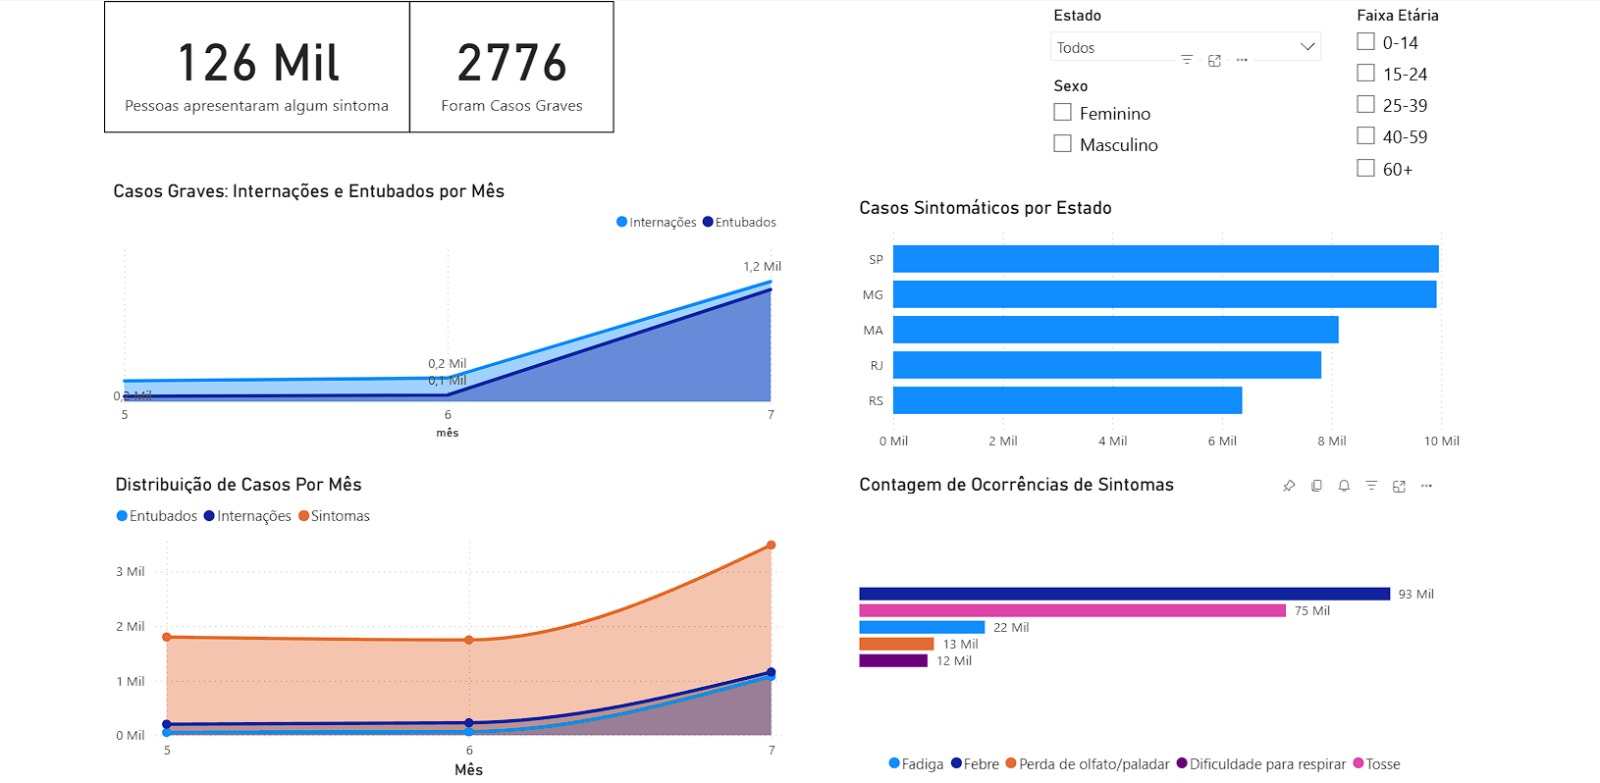

The page's visual inventory and layout, read from the dashboard file:
{"tool":"powerbi","page":{"name":"sintomas clínicos","canvas":[1280,720],"ordinal":0},"visuals":[{"type":"card","fields":{"Values":["Tabela.QtdPessoas_AlgumSintoma"]},"box":[0,0,280.5,120.8],"z":0},{"type":"clusteredBarChart","title":"Contagem de Ocorrências de Sintomas","fields":{"Y":["Tabela.Qtd_Fadiga","Tabela.Qtd_Febre","Tabela.Qtd_OlfPal","Tabela.Qtd_DifResp","Tabela.Qtd_Tosse"]},"box":[688.3,433.8,537.7,285.7],"z":1000},{"type":"clusteredBarChart","title":"Casos Sintomáticos por Estado","fields":{"Y":["Tabela.QtdPessoas_AlgumSintoma"],"Category":["pnad_sot (2).uf_sigla"]},"box":[688.3,179.2,561,242.9],"z":2000},{"type":"areaChart","title":"Casos Graves: Internações e Entubados por Mês","fields":{"Category":["pnad_sot (2).mes"],"Y":["Tabela.Internacoes","Tabela.Entubados"]},"box":[3.9,163.6,623.4,242.9],"z":3000},{"type":"lineChart","title":"Distribuição de Casos Por Mês","fields":{"Category":["pnad_sot (2).mes"],"Y":["Tabela.Entubados","Tabela.Internacoes","Tabela.Qtd_atendimentos"]},"box":[5.2,433.8,622.1,285.7],"z":4000},{"type":"card","fields":{"Values":["Tabela.Casos Graves"]},"box":[280.5,0,188.3,120.8],"z":5000},{"type":"slicer","fields":{"Values":["pnad_sot (2).uf_sigla"]},"box":[858.4,0,268.8,64.9],"z":6000},{"type":"slicer","fields":{"Values":["pnad_sot (2).sexo"]},"box":[858.4,64.9,197.4,87],"z":7000},{"type":"slicer","fields":{"Values":["pnad_sot (2).faixa_idade"]},"box":[1137.7,0,142.9,179.2],"z":8000}]}

Visuals, with their boxes on the page's 1280x720 design canvas (x1, y1, x2, y2). These are canvas units, not pixel positions in the 1600x783 screenshot, which may show the page scaled, cropped or inside an application window:
card - Tabela.QtdPessoas_AlgumSintoma: x1=0 y1=0 x2=280 y2=121
"Contagem de Ocorrências de Sintomas" clusteredBarChart: x1=688 y1=434 x2=1226 y2=720
"Casos Sintomáticos por Estado" clusteredBarChart: x1=688 y1=179 x2=1249 y2=422
"Casos Graves: Internações e Entubados por Mês" areaChart: x1=4 y1=164 x2=627 y2=406
"Distribuição de Casos Por Mês" lineChart: x1=5 y1=434 x2=627 y2=720
card - Tabela.Casos Graves: x1=280 y1=0 x2=469 y2=121
slicer - pnad_sot (2).uf_sigla: x1=858 y1=0 x2=1127 y2=65
slicer - pnad_sot (2).sexo: x1=858 y1=65 x2=1056 y2=152
slicer - pnad_sot (2).faixa_idade: x1=1138 y1=0 x2=1281 y2=179
